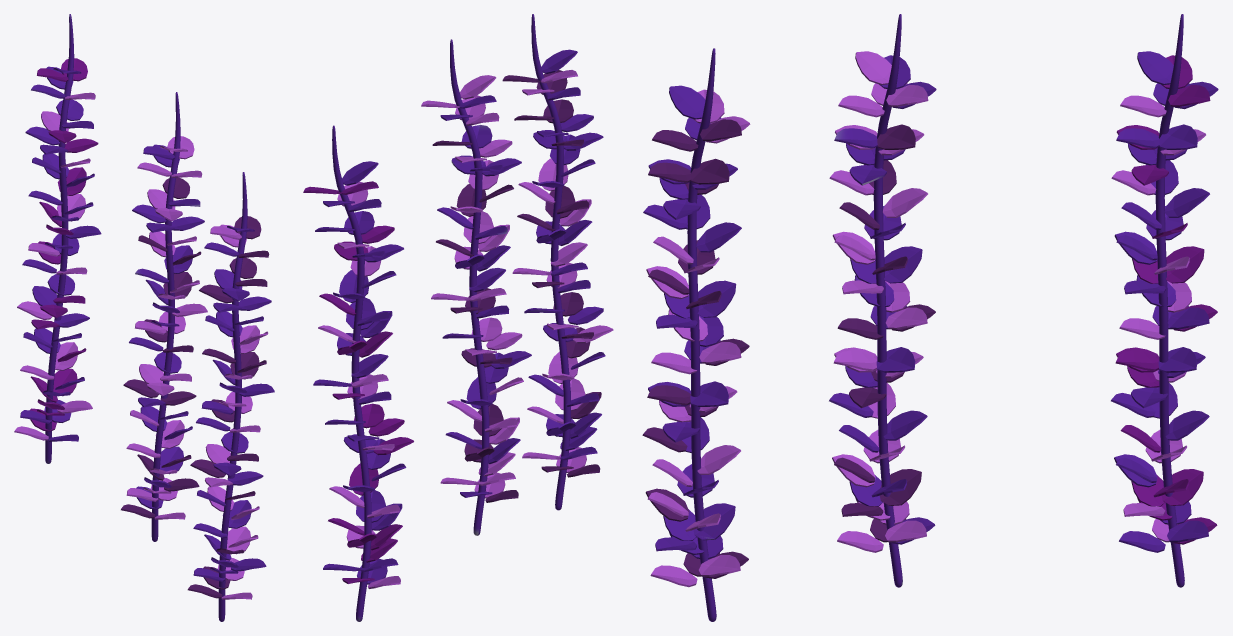
3 views of the same model, side by side, from view 1: azimuth 30°, elevation 25°; view 2: azimuth 150°, elevation 25°; view 3: azimuth 270°, elevation 25° (orthographic). The views are drawn at different scales.
Parts seen in each view (by area): view 1: Group2 (×2), seaweed:Group2, Group44 (×2), Group41 (×2), Group20 (×2), Group17 (×2), Group51 (×2), seaweed:Group44, seaweed:Group41, seaweed:Group20, seaweed:Group17, seaweed:Group51; view 2: Group2 (×2), seaweed:Group2, Group5 (×2), Group50 (×2), Group56 (×2), Group23 (×2), Group38 (×2), seaweed:Group5, seaweed:Group50, seaweed:Group23, seaweed:Group56, Group42 (+1 smaller); view 3: Group2 (×2), seaweed:Group2, Group5 (×2), Group16 (×2), Group45 (×2), Group22 (×2), Group15 (×2), Group39 (×2), seaweed:Group5, seaweed:Group16, seaweed:Group45, seaweed:Group22 (+2 smaller).
Part boxes in pixels (bbox=[...]): Group2 (×2): bbox=[45, 14, 180, 541]; seaweed:Group2: bbox=[218, 172, 247, 621]; Group44 (×2): bbox=[53, 368, 183, 474]; Group41 (×2): bbox=[49, 342, 184, 448]; Group20 (×2): bbox=[57, 167, 192, 273]; Group17 (×2): bbox=[57, 194, 192, 299]; Group51 (×2): bbox=[32, 286, 163, 383]; seaweed:Group44: bbox=[226, 526, 250, 554]; seaweed:Group41: bbox=[222, 500, 251, 528]; seaweed:Group20: bbox=[231, 325, 259, 353]; seaweed:Group17: bbox=[230, 352, 259, 379]; seaweed:Group51: bbox=[205, 444, 230, 463]; Group2 (×2): bbox=[332, 39, 489, 621]; seaweed:Group2: bbox=[531, 14, 570, 510]; Group5 (×2): bbox=[342, 75, 496, 185]; Group50 (×2): bbox=[354, 317, 502, 428]; Group56 (×2): bbox=[351, 268, 505, 378]; Group23 (×2): bbox=[339, 184, 486, 302]; Group38 (×2): bbox=[349, 377, 496, 495]; seaweed:Group5: bbox=[541, 49, 577, 73]; seaweed:Group50: bbox=[553, 292, 583, 316]; seaweed:Group23: bbox=[538, 158, 568, 191]; seaweed:Group56: bbox=[550, 242, 587, 266]; Group42: bbox=[356, 490, 385, 522]; Group2 (×2): bbox=[873, 14, 1184, 587]; seaweed:Group2: bbox=[687, 48, 716, 621]; Group5 (×2): bbox=[855, 51, 1173, 84]; Group16 (×2): bbox=[884, 246, 1204, 283]; Group45 (×2): bbox=[880, 469, 1203, 505]; Group22 (×2): bbox=[883, 188, 1209, 217]; Group15 (×2): bbox=[877, 124, 1197, 149]; Group39 (×2): bbox=[883, 410, 1209, 440]; seaweed:Group5: bbox=[669, 85, 705, 119]; seaweed:Group16: bbox=[697, 280, 736, 317]; seaweed:Group45: bbox=[693, 503, 735, 540]; seaweed:Group22: bbox=[696, 222, 741, 252].
Size of the model in its own units: 0.3606 by 2 by 1.67.
Materials: 3 (3 with a texture image).
